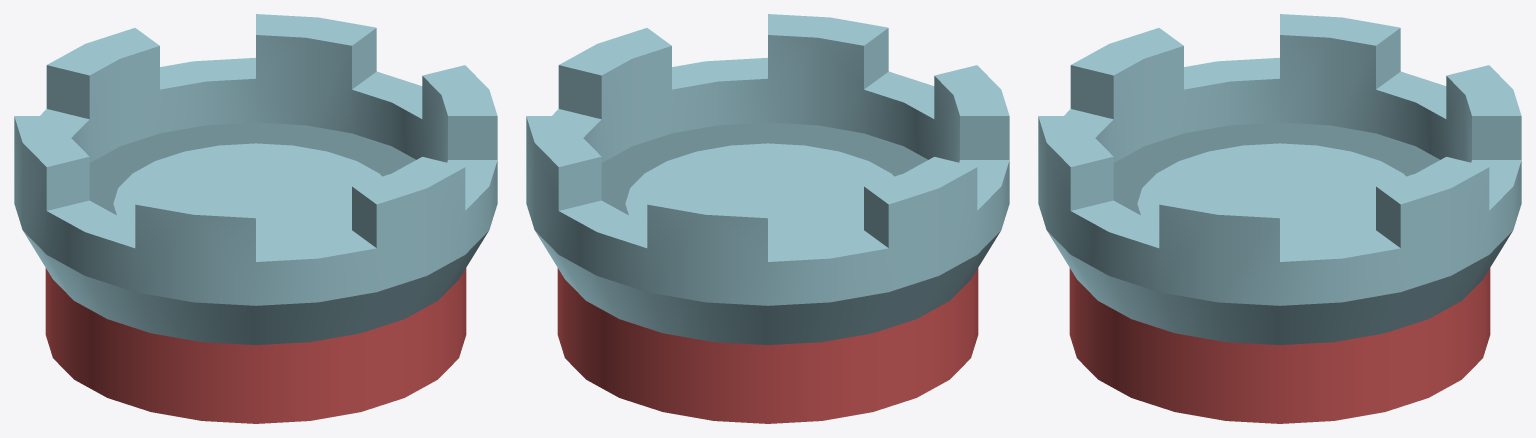
File: towerRound_topB.dae
3 renders of one model, left to right at view 1: azimuth 30°, elevation 25°; view 2: azimuth 150°, elevation 25°; view 3: azimuth 270°, elevation 25°, orthographic.
Parts seen in each view (by area): view 1: towerRound_topB; view 2: towerRound_topB; view 3: towerRound_topB.
Part boxes in pixels (x1=…): towerRound_topB: x1=14, y1=14, x2=497, y2=423; towerRound_topB: x1=526, y1=14, x2=1009, y2=423; towerRound_topB: x1=1038, y1=14, x2=1521, y2=423.
Size of the model in its own units: 1 by 0.5 by 1.
